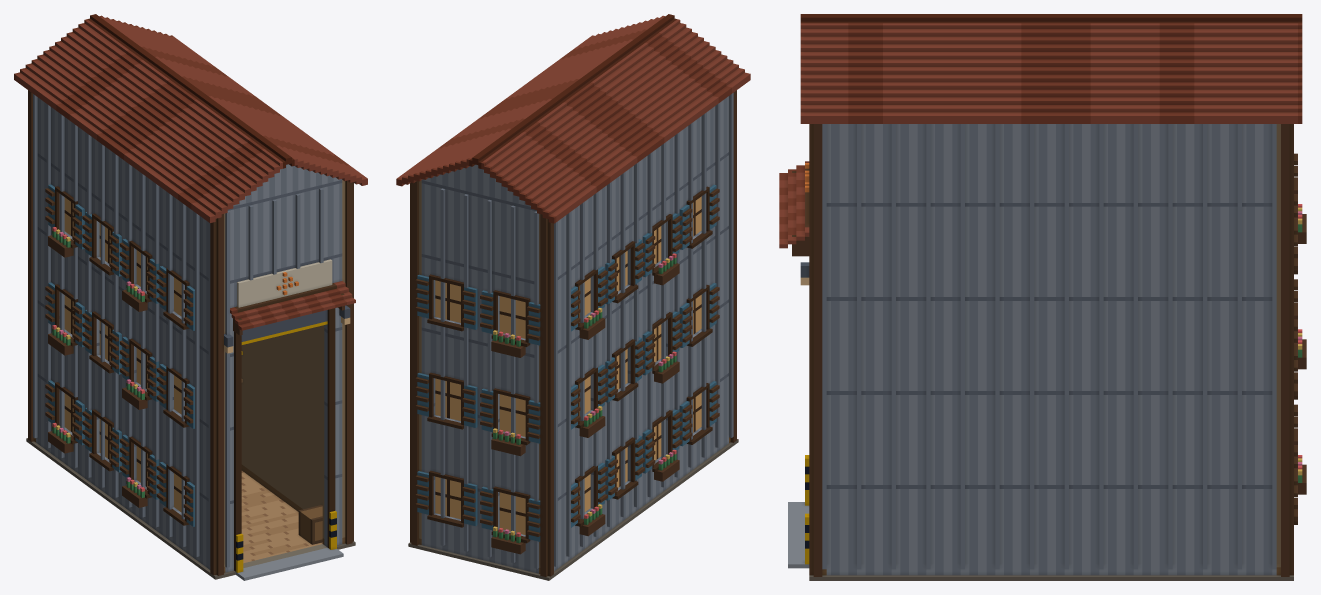
Rendered from workshop_e1_l2.glb.
3 renders of one model, left to right at view 1: azimuth 30°, elevation 25°; view 2: azimuth 150°, elevation 25°; view 3: azimuth 270°, elevation 25°, orthographic. The views are drawn at different scales.
Visible parts, largest first — view 1: CutNX, CutRoof, CutPZ, Base, CutPX, CutNZ; view 2: CutNX, CutNZ, CutRoof, Base, CutPZ; view 3: CutPX, CutRoof, Base, CutNZ, CutPZ.
Part boxes in pixels (x1=…): CutNX: x1=33, y1=94, x2=210, y2=544; CutRoof: x1=14, y1=14, x2=367, y2=222; CutPZ: x1=210, y1=180, x2=355, y2=548; Base: x1=26, y1=351, x2=355, y2=580; CutPX: x1=241, y1=325, x2=322, y2=501; CutNZ: x1=28, y1=90, x2=32, y2=414; CutNX: x1=554, y1=93, x2=733, y2=545; CutNZ: x1=410, y1=180, x2=553, y2=549; CutRoof: x1=396, y1=14, x2=750, y2=223; Base: x1=408, y1=413, x2=738, y2=580; CutPZ: x1=733, y1=90, x2=736, y2=414; CutPX: x1=822, y1=124, x2=1276, y2=541; CutRoof: x1=800, y1=14, x2=1302, y2=123; Base: x1=788, y1=470, x2=1306, y2=580; CutNZ: x1=1276, y1=124, x2=1306, y2=541; CutPZ: x1=779, y1=124, x2=822, y2=541.
Bounding box in the file's own units: 5.4 × 13.3 × 12.2.
